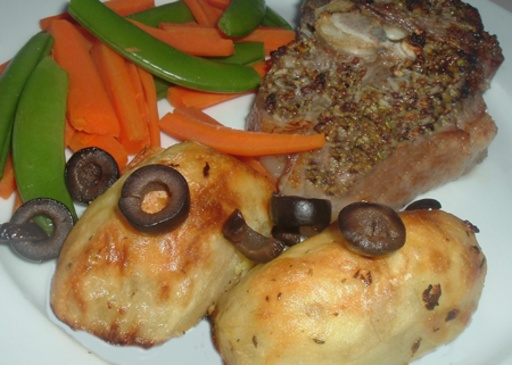background: (0, 0, 404, 208)
